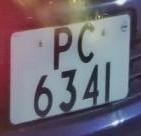1: (101, 58, 116, 106)
3: (55, 67, 82, 116)
4: (80, 59, 103, 109)
6: (31, 71, 57, 121)
C: (74, 19, 98, 66)
P: (51, 26, 77, 74)
